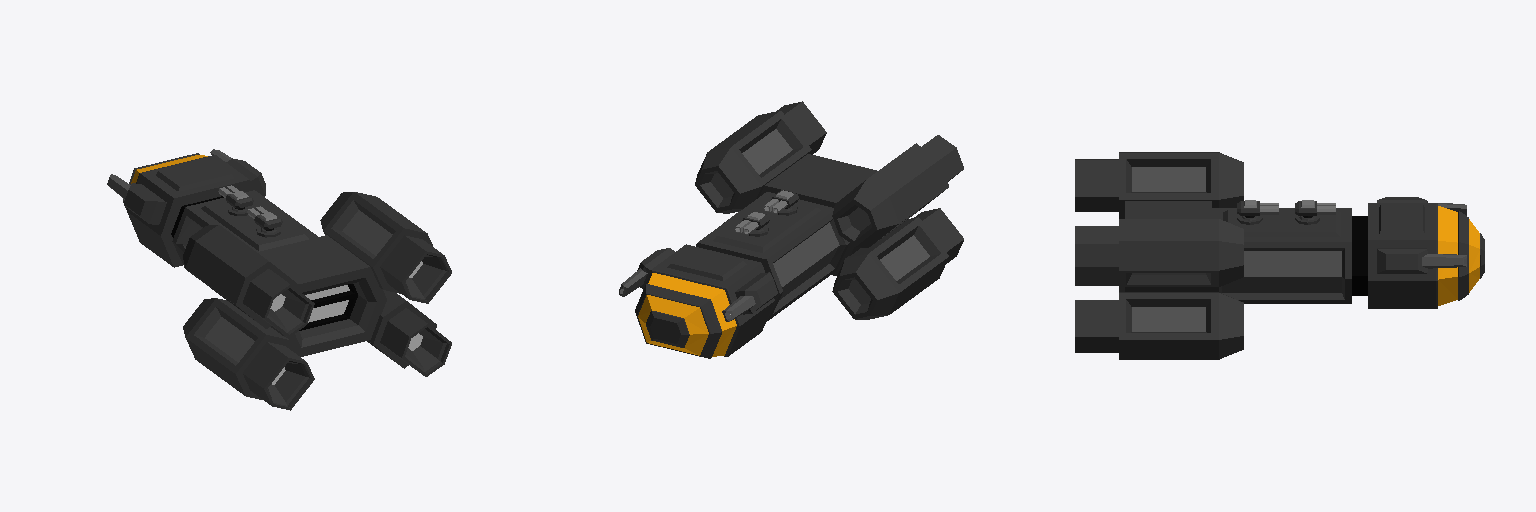
3 views of the same model, side by side, from view 1: azimuth 30°, elevation 25°; view 2: azimuth 150°, elevation 25°; view 3: azimuth 270°, elevation 25° (orthographic).
Visible parts, largest first — view 1: SmallFrigate_Cube.002; view 2: SmallFrigate_Cube.002; view 3: SmallFrigate_Cube.002.
Boxes of the visible parts, box(x1,y1,x2,y2) form: SmallFrigate_Cube.002: box(107, 149, 451, 410); SmallFrigate_Cube.002: box(619, 101, 963, 358); SmallFrigate_Cube.002: box(1075, 152, 1484, 359).
Size of the model in its own units: 5.36 by 3.56 by 9.41.
Materials: 2 (1 with a texture image).